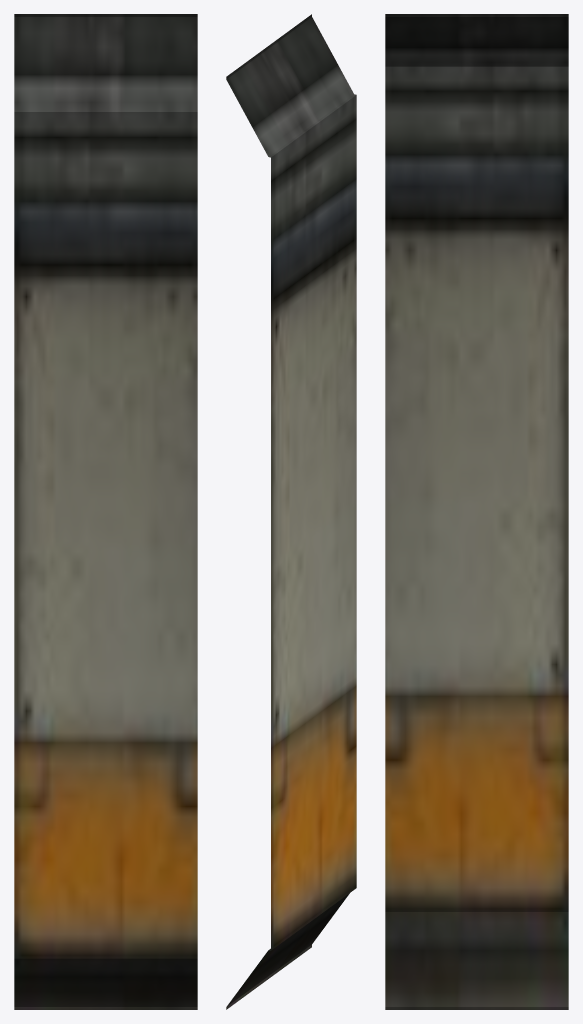
File: wall_narrow.fbx
3 renders of one model, left to right at view 1: azimuth 90°, elevation 25°; view 2: azimuth 150°, elevation 25°; view 3: azimuth 270°, elevation 25°, orthographic. The views are drawn at different scales.
Parts seen in each view (by area): view 1: WallSmall; view 2: WallSmall; view 3: WallSmall.
Part boxes in pixels (x1,y1,x2,y2): WallSmall: (14, 14, 197, 1009); WallSmall: (226, 14, 356, 1009); WallSmall: (385, 14, 568, 1009).
Bounding box in the file's own units: 30 × 600 × 100.
1 material, 1 textured.
